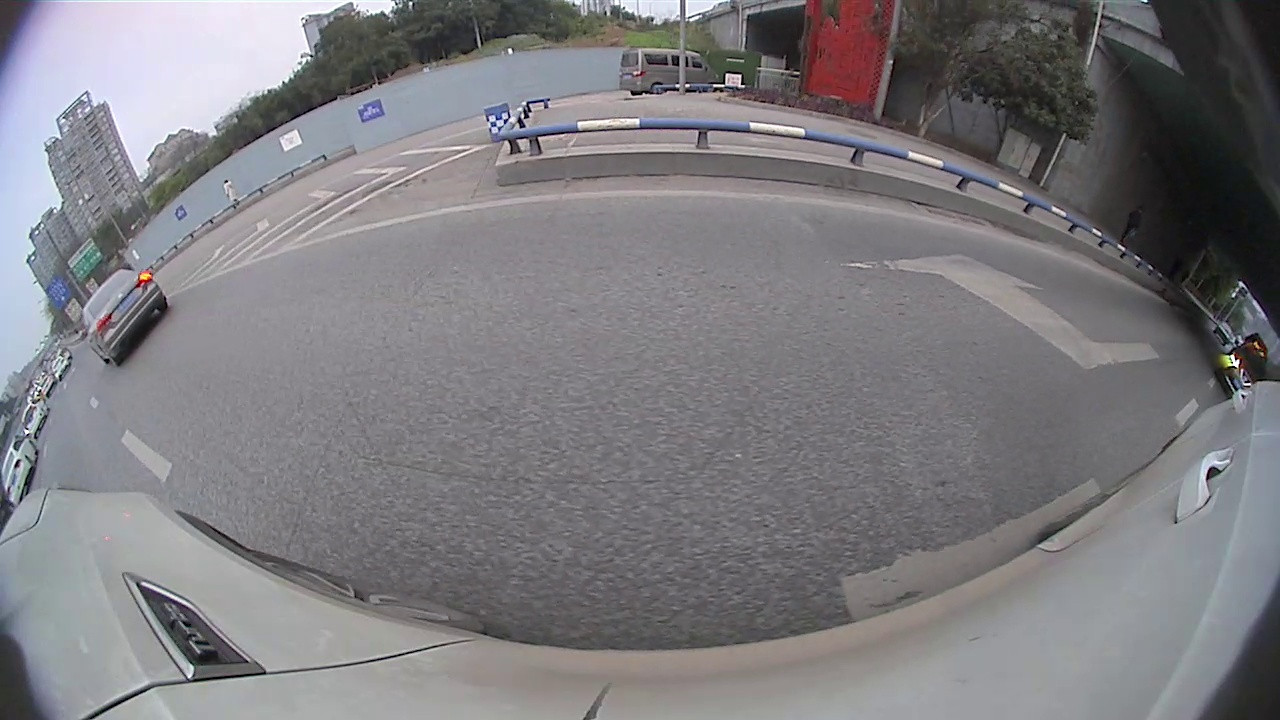car: (81, 268, 168, 368), (619, 46, 717, 96), (1213, 341, 1272, 402), (3, 437, 39, 508), (21, 401, 50, 440)
person: (1128, 206, 1143, 245), (224, 179, 234, 208)
rear: (109, 350, 127, 369), (153, 297, 172, 315)
